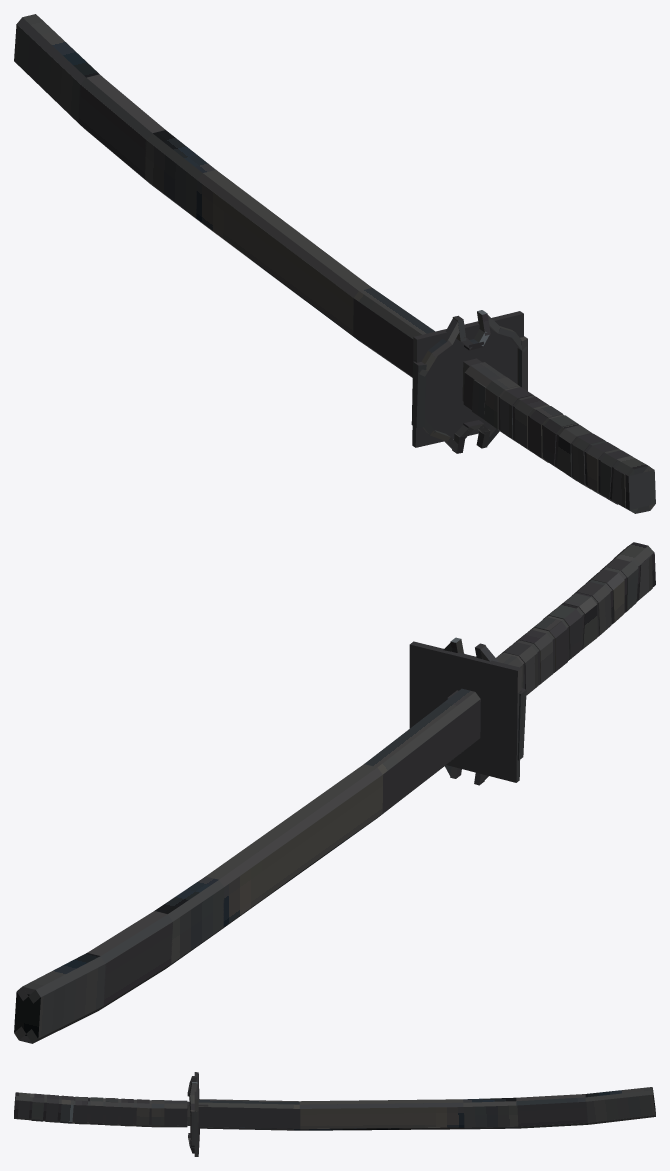
File: odachi_in_sheath.obj
3 renders of one model, top to bottom at view 1: azimuth 30°, elevation 25°; view 2: azimuth 150°, elevation 25°; view 3: azimuth 270°, elevation 25°, orthographic. The views are drawn at different scales.
Parts seen in each view (by area): view 1: katana_sheath, Odachi; view 2: katana_sheath, Odachi; view 3: katana_sheath, Odachi.
Boxes of the visible parts, <box> form: katana_sheath: <box>14,14,435,377</box>; Odachi: <box>411,310,655,513</box>; katana_sheath: <box>14,688,480,1043</box>; Odachi: <box>409,542,655,785</box>; katana_sheath: <box>198,1087,655,1130</box>; Odachi: <box>14,1072,208,1156</box>.
Bounding box in the file's own units: 0.375 × 0.4388 × 3.63.
